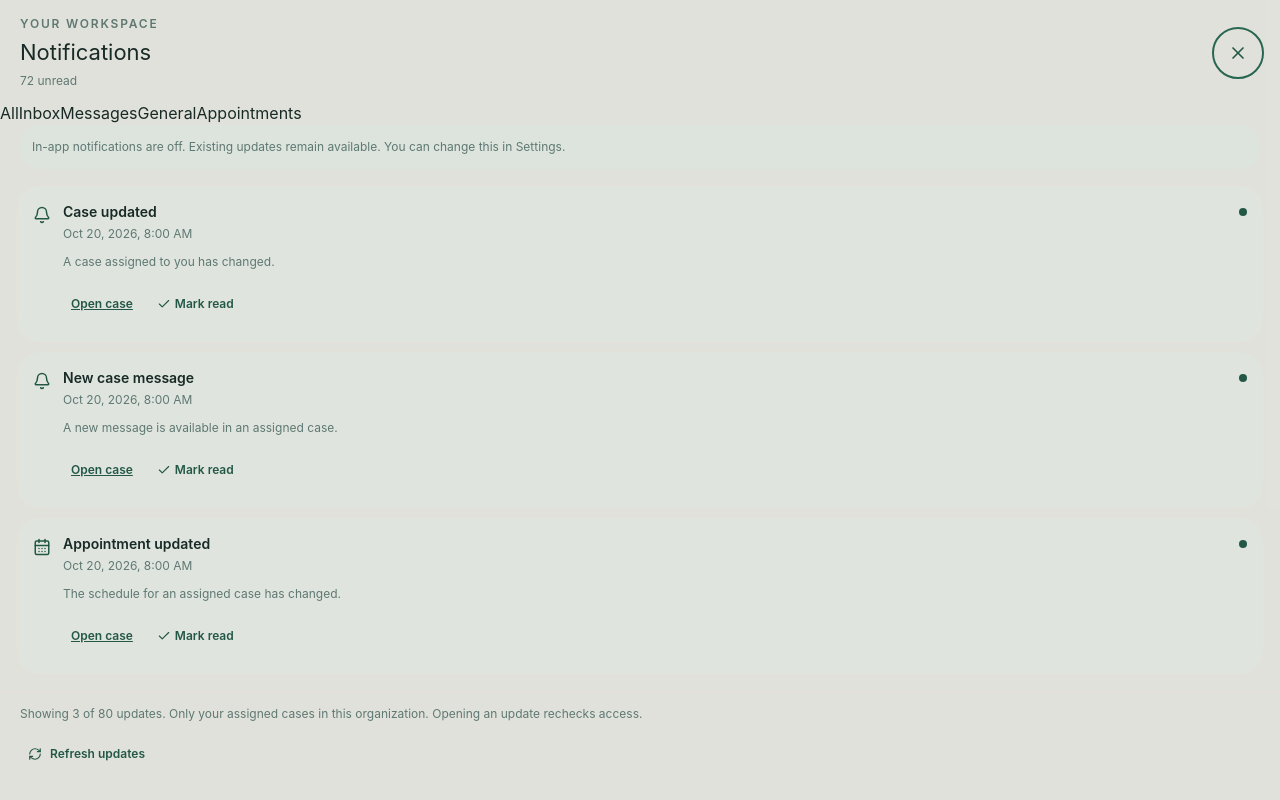
Test case: filters safe chat, appointment and general updates with accessible controls and exact totals
expect the text "72 unread" is shown: met, box [20, 73, 77, 88]
expect the message shows "In-app notifications are off": met, box [32, 139, 565, 154]
Click the button "Messages" at (99, 113), box [60, 101, 138, 125]
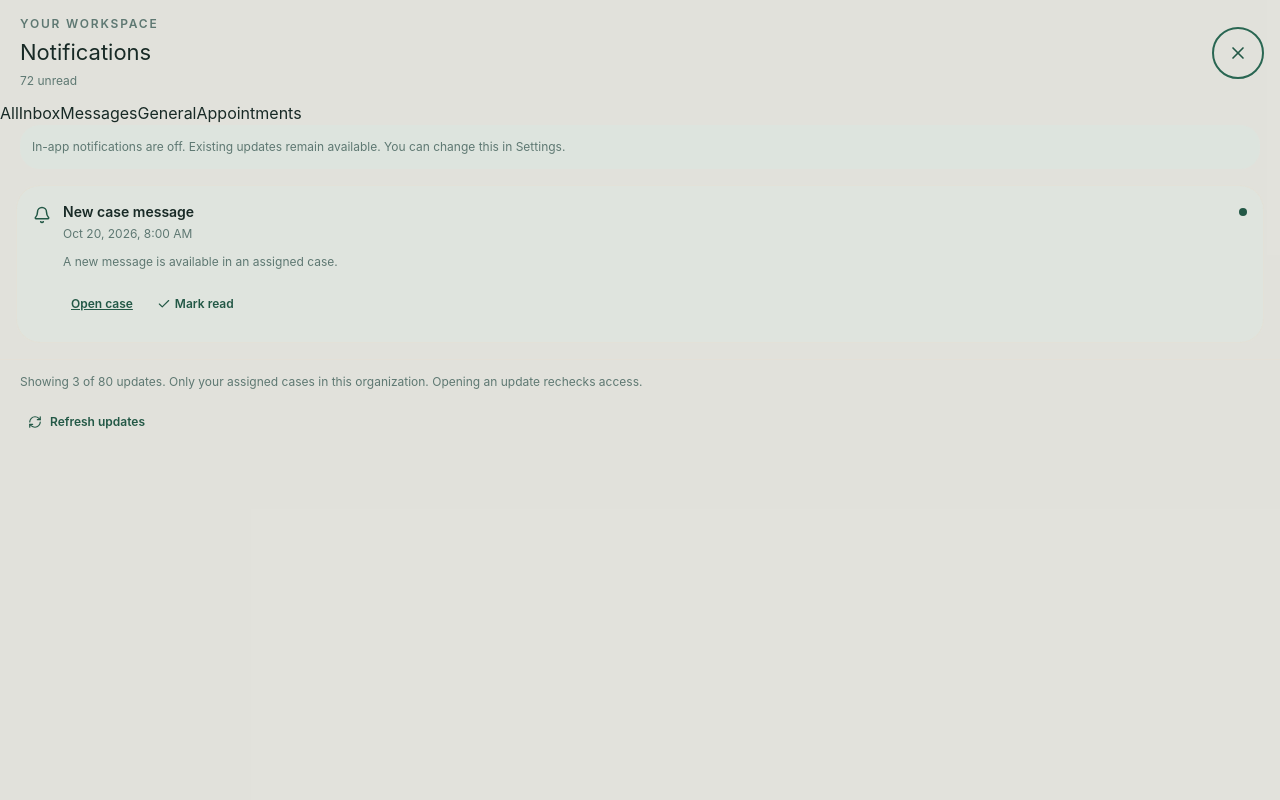
expect the heading "New case message" is shown: met, box [63, 202, 194, 222]
expect the heading "Case updated" is gone: met
Click the button "General" at (167, 113), box [138, 101, 196, 125]
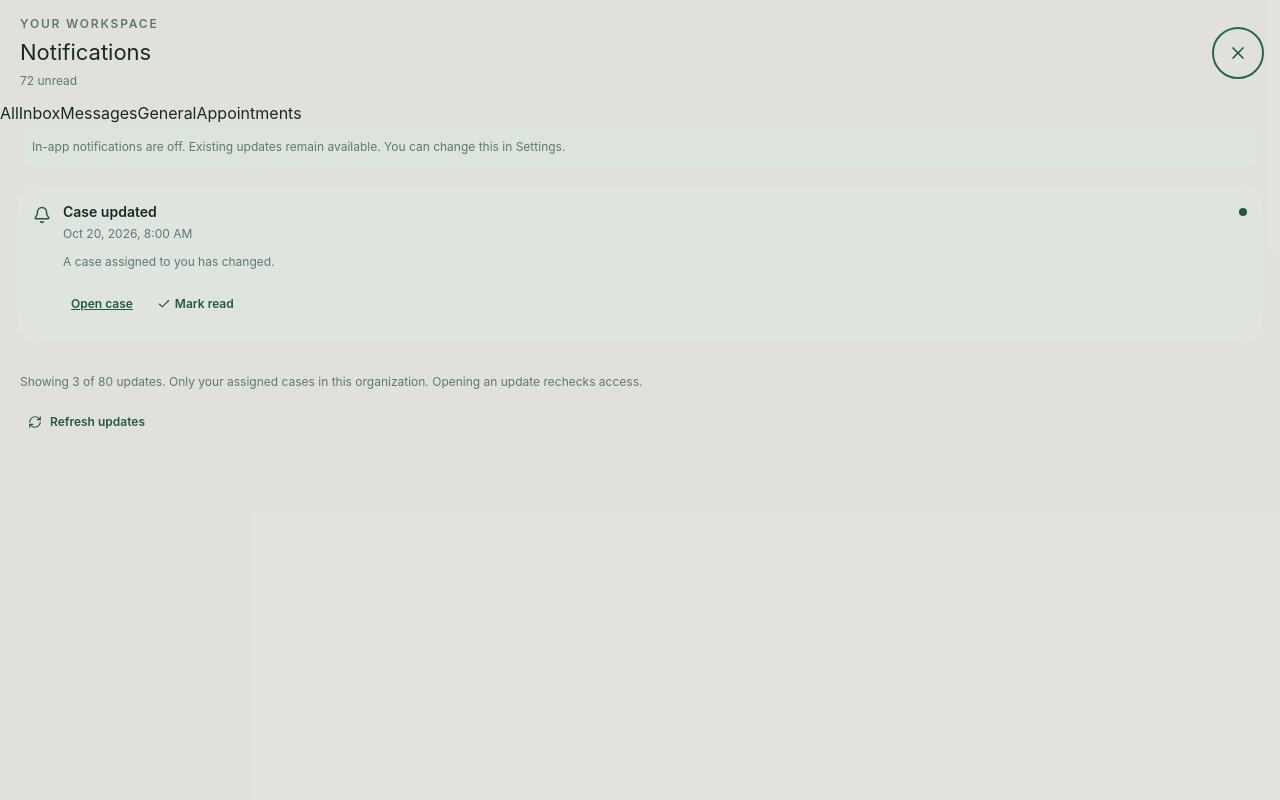
expect the heading "Case updated" is shown: met, box [63, 202, 157, 222]
expect the heading "New case message" is gone: met
Click the button "Appointments" at (249, 113), box [196, 101, 302, 125]
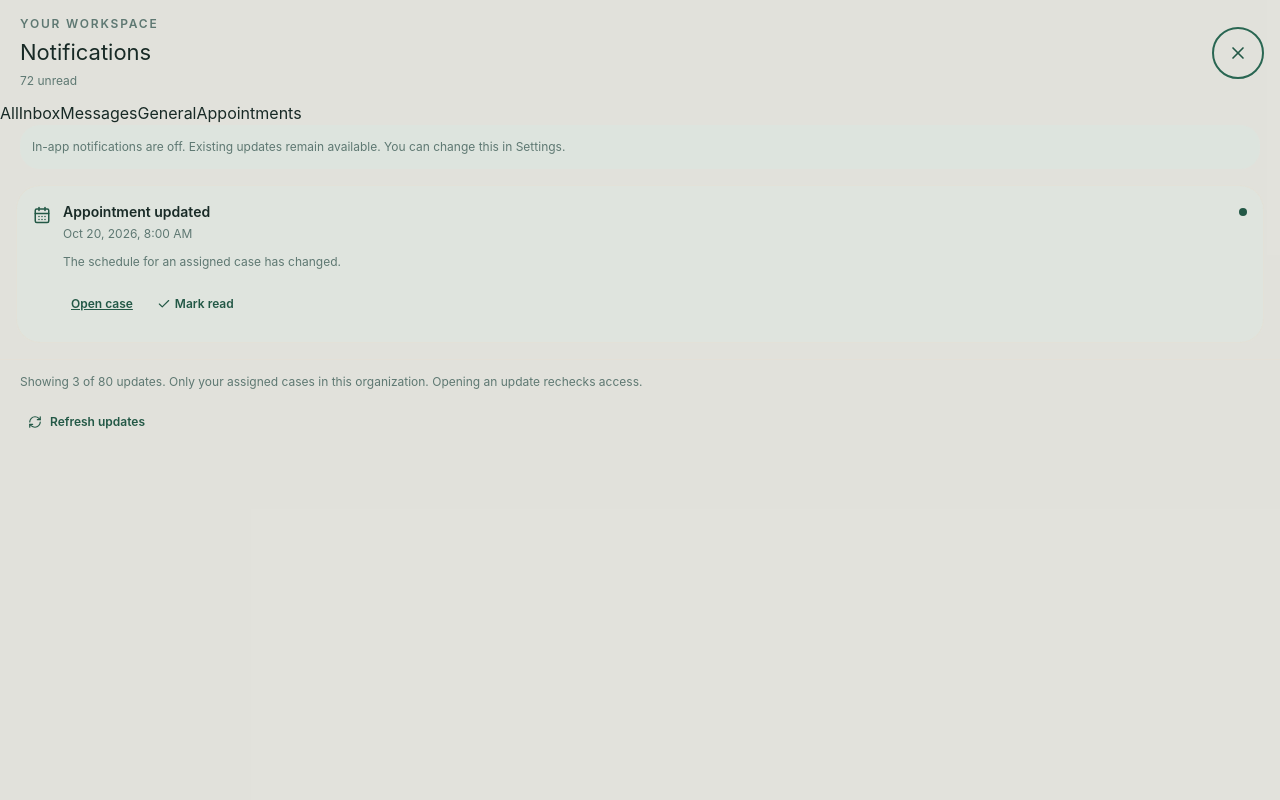
expect the heading "Appointment updated" is shown: met, box [63, 202, 210, 222]
